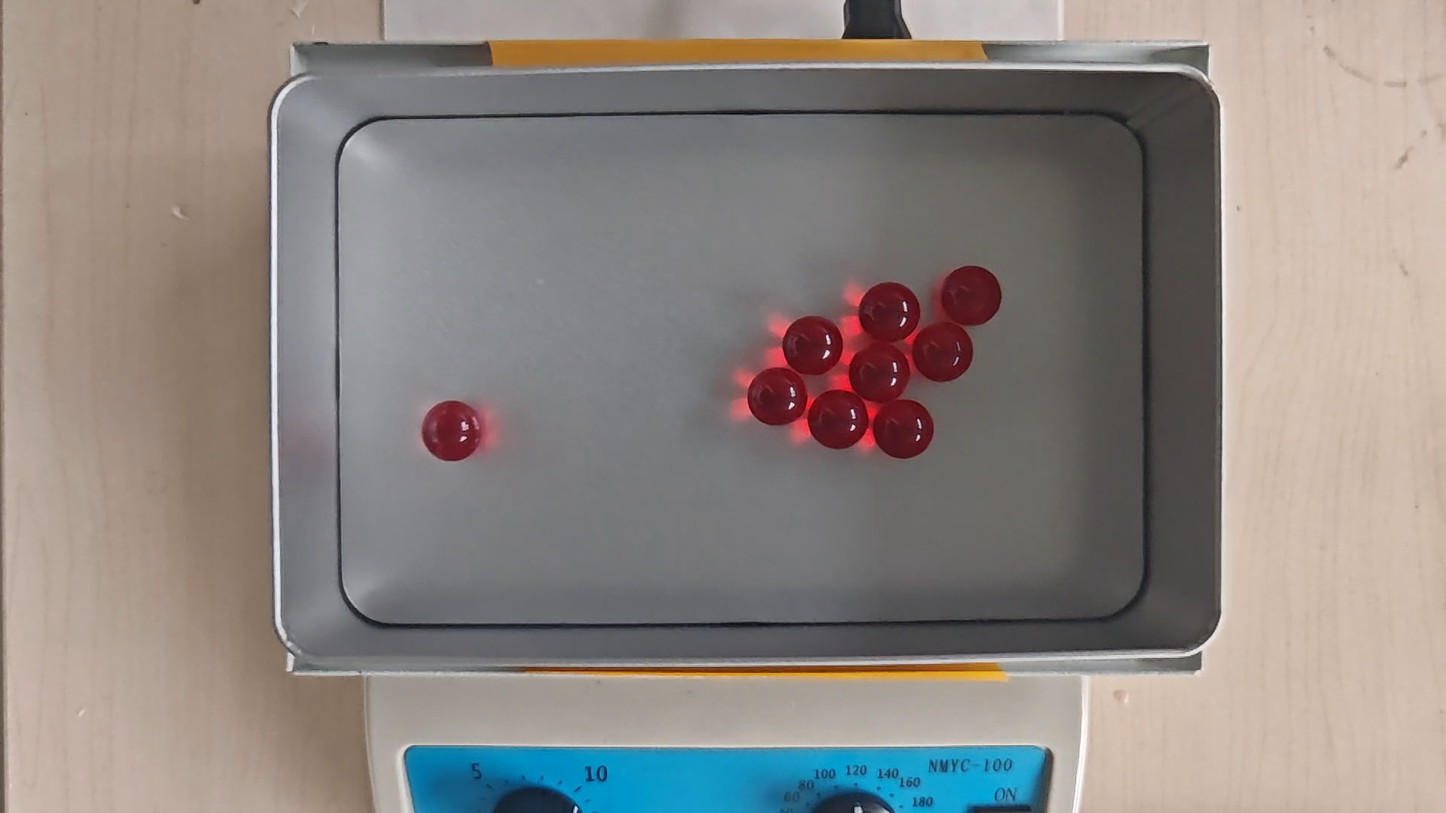ball: (421, 399, 483, 463), (942, 264, 1003, 326), (859, 281, 920, 343), (874, 399, 935, 460), (913, 323, 974, 383), (809, 389, 868, 451), (747, 368, 808, 427), (851, 342, 910, 401), (783, 316, 843, 374)
container: (330, 109, 1151, 623)
